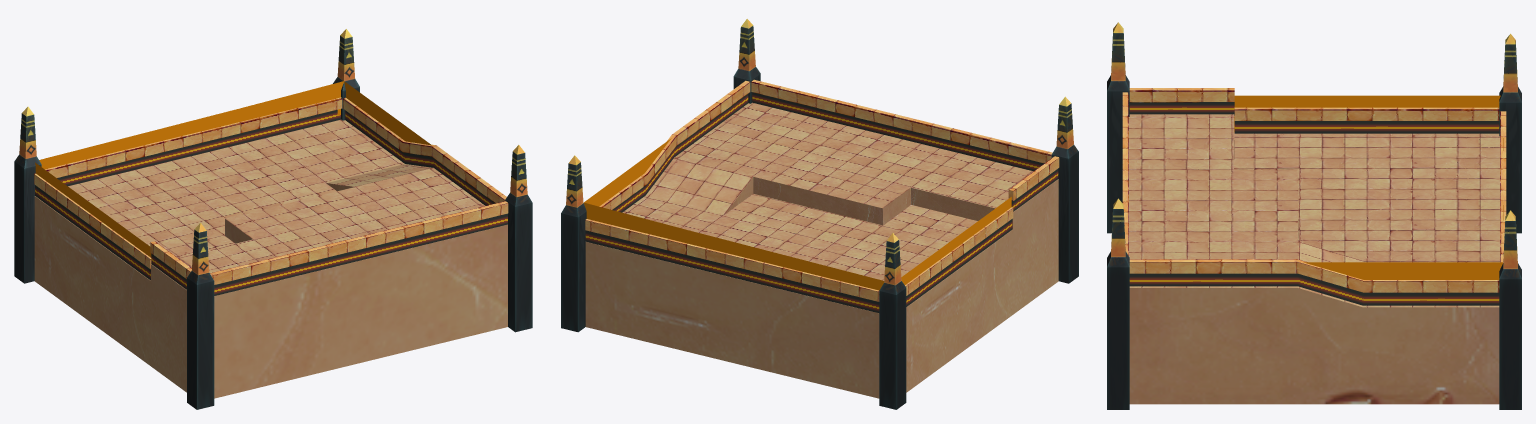
The model's file is Duel_Stage 32.fbx.
3 renders of one model, left to right at view 1: azimuth 30°, elevation 25°; view 2: azimuth 150°, elevation 25°; view 3: azimuth 270°, elevation 25°, orthographic. The views are drawn at different scales.
Parts seen in each view (by area): view 1: CR_Platform_Cube_floor_1, CR_Platform_Cube.030, Cube.108, Plane.156; view 2: CR_Platform_Cube_floor_1, CR_Platform_Cube.030, Cube.108, Plane.156; view 3: CR_Platform_Cube_floor_1, CR_Platform_Cube.030, Cube.108, Plane.156.
Boxes of the visible parts, <box> form: CR_Platform_Cube_floor_1: <box>34,119,507,398</box>; CR_Platform_Cube.030: <box>34,97,508,295</box>; Cube.108: <box>14,29,532,409</box>; Plane.156: <box>35,81,431,257</box>; CR_Platform_Cube_floor_1: <box>585,102,1058,398</box>; CR_Platform_Cube.030: <box>585,79,1059,312</box>; Cube.108: <box>561,19,1078,409</box>; Plane.156: <box>583,138,1011,290</box>; CR_Platform_Cube_floor_1: <box>1128,114,1500,404</box>; CR_Platform_Cube.030: <box>1122,88,1506,305</box>; Cube.108: <box>1107,22,1521,409</box>; Plane.156: <box>1234,95,1503,279</box>.
Size of the model in its own units: 4118 by 2229 by 3879.
